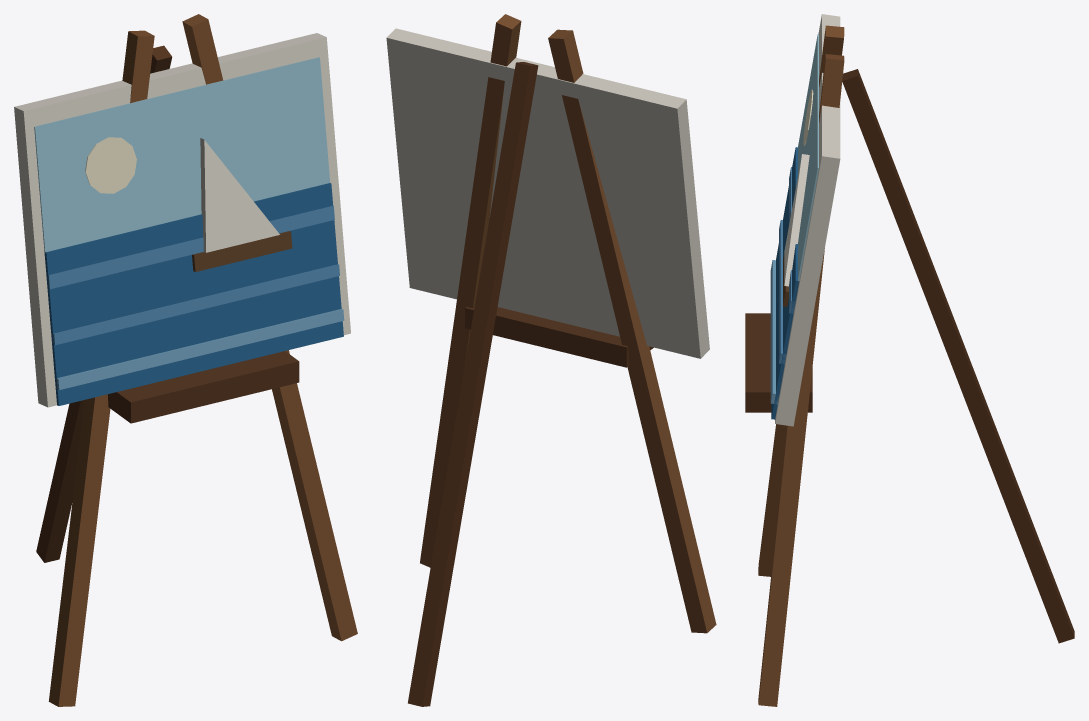
Rendered from c-easel-sea.glb.
3 views of the same model, side by side, from view 1: azimuth 30°, elevation 25°; view 2: azimuth 150°, elevation 25°; view 3: azimuth 270°, elevation 25° (orthographic). The views are drawn at different scales.
Parts seen in each view (by area): view 1: c-easel-sea; view 2: c-easel-sea; view 3: c-easel-sea.
Part boxes in pixels (x1,y1,x2,y2): c-easel-sea: (14,14,357,706); c-easel-sea: (386,14,716,706); c-easel-sea: (745,14,1074,706).
Size of the model in its own units: 0.45 by 0.8823 by 0.4406.
